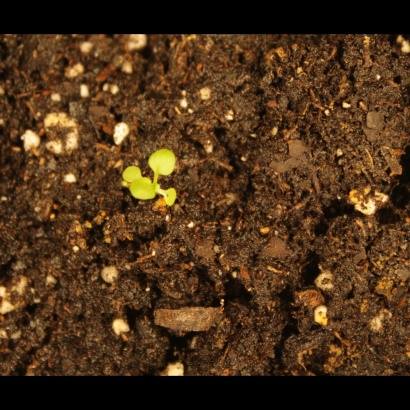leaf: (148, 144, 180, 178), (128, 175, 158, 203), (162, 187, 185, 210), (120, 163, 143, 186)
